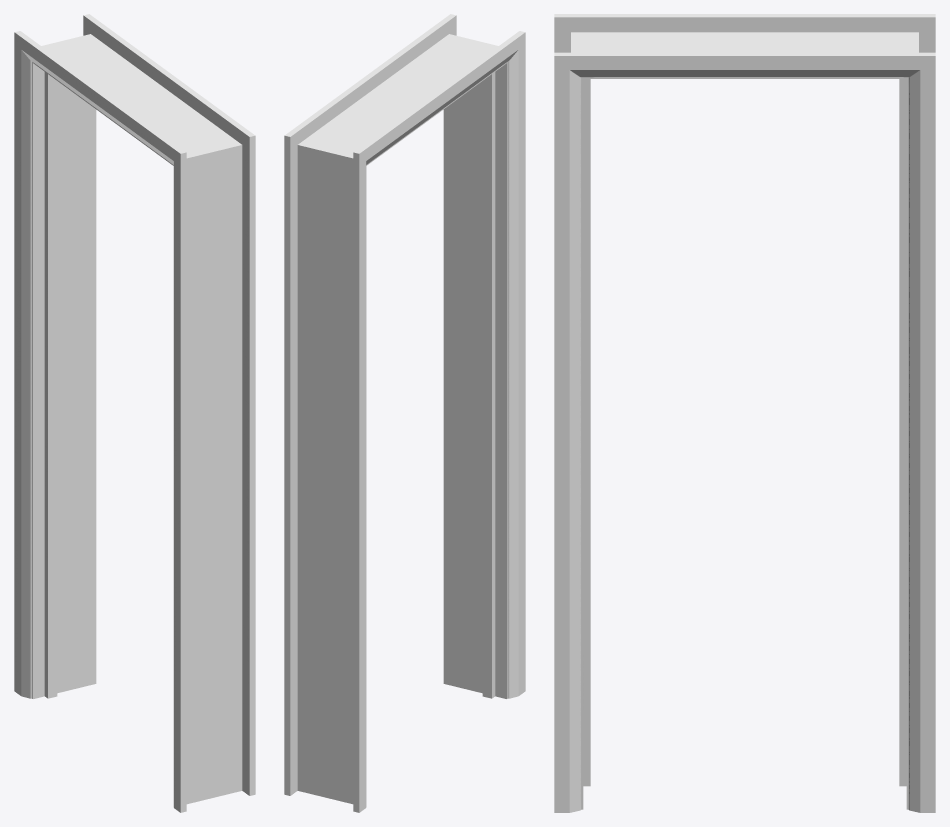
File: Door Frame.fbx
3 views of the same model, side by side, from view 1: azimuth 30°, elevation 25°; view 2: azimuth 150°, elevation 25°; view 3: azimuth 270°, elevation 25° (orthographic). The views are drawn at different scales.
Visible parts, largest first — view 1: Door Frame; view 2: Door Frame; view 3: Door Frame.
Part boxes in pixels (bbox=[...]): Door Frame: bbox=[14, 14, 255, 812]; Door Frame: bbox=[284, 14, 525, 812]; Door Frame: bbox=[554, 14, 935, 812].
Bounding box in the file's own units: 25.5 × 214 × 98.
